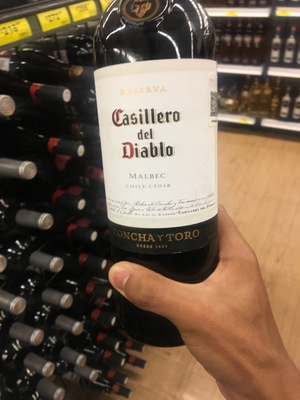casillero del diablo malbec: (88, 8, 249, 302)
